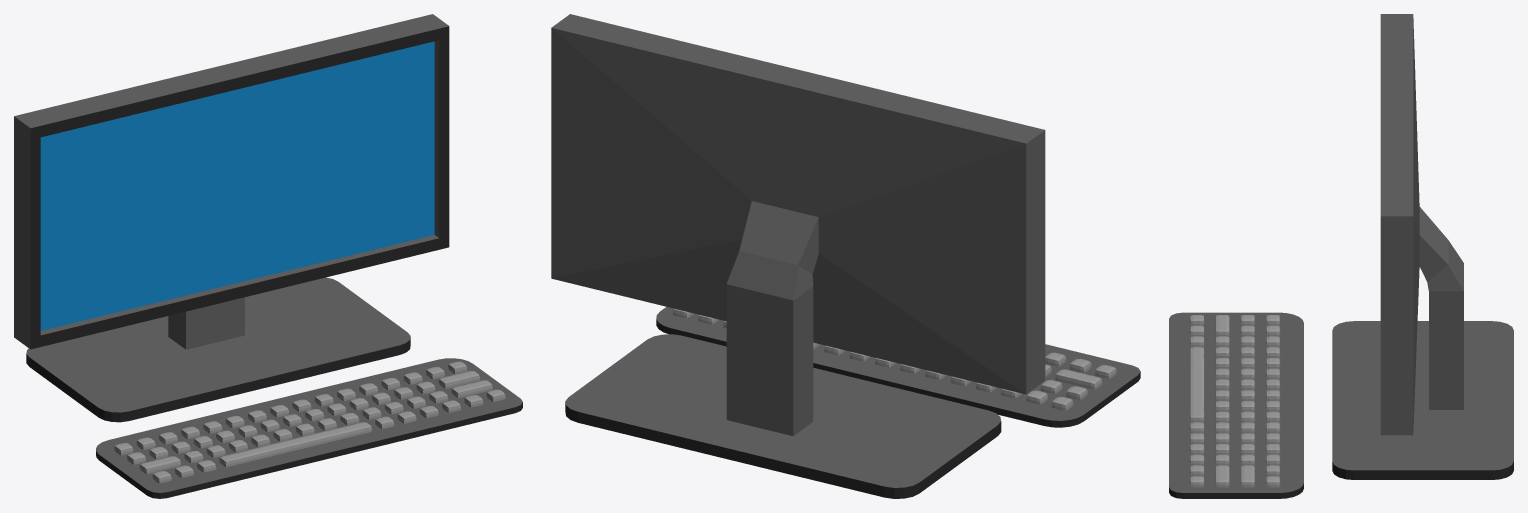
The model's file is computer.fbx.
3 renders of one model, left to right at view 1: azimuth 30°, elevation 25°; view 2: azimuth 150°, elevation 25°; view 3: azimuth 270°, elevation 25°, orthographic. The views are drawn at different scales.
Visible parts, largest first — view 1: Cube.001; view 2: Cube.001; view 3: Cube.001.
Boxes of the visible parts, x1,y1,x2,y2 form: Cube.001: (14,14,522,498); Cube.001: (551,14,1140,498); Cube.001: (1169,14,1513,498).
Bounding box in the file's own units: 68.73 × 46.88 × 49.48.
